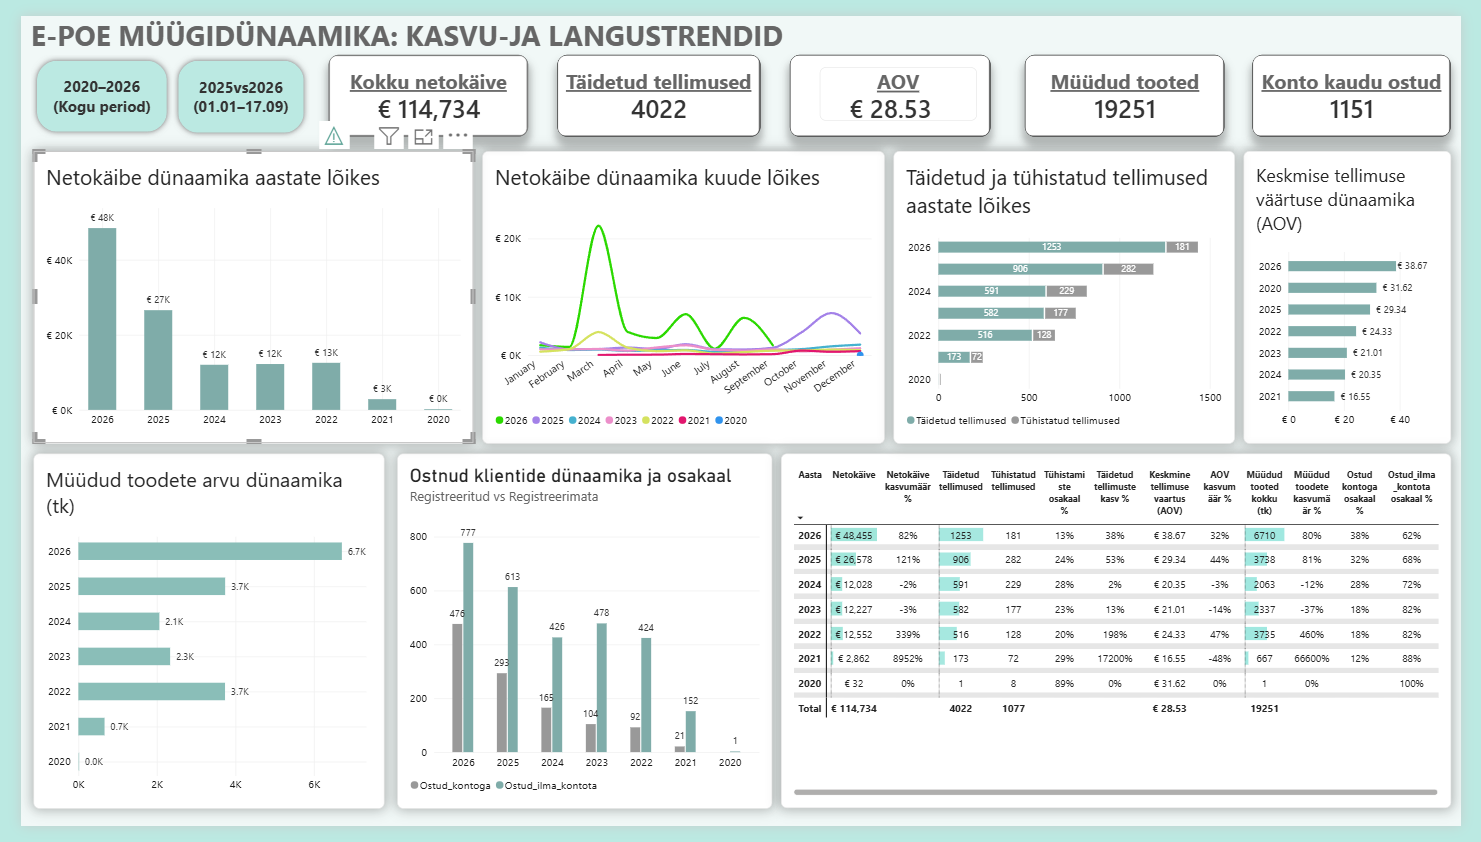

The dashboard page shown, as its layout file describes it:
{"tool":"powerbi","page":{"name":"E-POE MÜÜGIDÜNAAMIKA","canvas":[1920,1080],"ordinal":0},"visuals":[{"type":"cardVisual","fields":{"Data":["Arvutused.Täidetud tellimused"]},"box":[715.4,52.3,270.9,109.3],"z":2000},{"type":"cardVisual","fields":{"Data":["Arvutused.Muudud tooted kokku"]},"box":[1337.6,50.9,266.1,109.3],"z":5000},{"type":"cardVisual","fields":{"Data":["Arvutused.Ostud_kontoga"]},"box":[1641.2,52.3,264.6,109.3],"z":7000},{"type":"clusteredColumnChart","title":"Netokäibe dünaamika aastate lõikes","fields":{"Category":["public dim_date.year"],"Y":["Arvutused.Netokäive"]},"box":[16.7,180,586.7,390],"z":9000},{"type":"lineChart","title":"Netokäibe dünaamika kuude lõikes","fields":{"Category":["public dim_date.month_name"],"Series":["public dim_date.year"],"Y":["Arvutused.Netokäive"]},"box":[615,180,536.7,390],"z":10000},{"type":"clusteredBarChart","title":"Keskmise tellimuse väärtuse dünaamika (AOV)","fields":{"Category":["public dim_date.year"],"Y":["Arvutused.Keskmine tellimuse vaartus"]},"box":[1630,180,276.7,390],"z":11000},{"type":"clusteredBarChart","title":"Müüdud toodete arvu dünaamika (tk)","fields":{"Category":["public dim_date.year"],"Y":["Arvutused.Müüdud tooted kokku (tk)"]},"box":[17.5,584.1,468.3,473.3],"z":12000},{"type":"clusteredColumnChart","title":"Ostnud klientide dünaamika ja osakaal","fields":{"Category":["public dim_date.year"],"Y":["Arvutused.Ostud_kontoga","Arvutused.Ostud_ilma_kontota"]},"box":[501.6,584.1,500,473.3],"z":13000},{"type":"pivotTable","fields":{"Rows":["public dim_date.year"],"Values":["Arvutused.Netokäive","Arvutused.Netokäive kasvumäär %","Arvutused.Täidetud tellimused","Arvutused.Tühistatud tellimused","Arvutused.Tühistamiste osakaal %","Arvutused.Täidetud tellimuste kasv %","Arvutused.Keskmine tellimuse vaartus (AOV)","Arvutused.AOV kasvumäär %","Arvutused.Müüdud tooted kokku (tk)","Arvutused.Müüdud toodete kasvumäär %","Arvutused.Ostud_kontoga osakaal %","Arvutused.Ostud_ilma_kontota osakaal %"]},"box":[1012.7,584.1,893.7,473],"z":14000},{"type":"cardVisual","fields":{"Data":["Arvutused.Netokäive"]},"box":[410,52.3,266.1,109.3],"z":15000},{"type":"textbox","box":[410,68.3,266.1,58.2],"z":16000},{"type":"cardVisual","fields":{"Data":["Arvutused.Keskmine tellimuse vaartus"]},"box":[1025,50.9,267.7,109.3],"z":17000},{"type":"textbox","box":[1065.7,68,209.3,71.5],"z":18000},{"type":"actionButton","box":[13.1,52.3,189,110.5],"z":19000},{"type":"textbox","box":[1353.6,68.3,237,37.8],"z":19250},{"type":"textbox","box":[1641.2,68.1,264.6,50.7],"z":19375},{"type":"textbox","box":[715.4,68.3,270.4,52.3],"z":19437},{"type":"textbox","box":[385.7,84.1,12.7,42.9],"z":19468},{"type":"textbox","box":[916,80,70,118],"z":19500},{"type":"textbox","box":[13.3,0,1236.7,68.3],"z":19750},{"type":"actionButton","box":[202.1,52.3,183.2,112],"z":20000},{"type":"barChart","title":"Täidetud ja tühistatud tellimused aastate lõikes","fields":{"Category":["public dim_date.Year"],"Y":["Arvutused.Täidetud tellimused","Arvutused.Tühistatud tellimused"]},"box":[1163.3,180,455,390],"z":21000}]}

Visuals, with their boxes in screenshot pixels (x1, y1, x2, y2), scaled from the page's 1920x1080 canvas onto the 1481x842 screenshot:
cardVisual - Arvutused.Täidetud tellimused: detection(552, 41, 761, 126)
cardVisual - Arvutused.Muudud tooted kokku: detection(1032, 40, 1237, 125)
cardVisual - Arvutused.Ostud_kontoga: detection(1266, 41, 1470, 126)
"Netokäibe dünaamika aastate lõikes" clusteredColumnChart: detection(13, 140, 465, 444)
"Netokäibe dünaamika kuude lõikes" lineChart: detection(474, 140, 888, 444)
"Keskmise tellimuse väärtuse dünaamika (AOV)" clusteredBarChart: detection(1257, 140, 1471, 444)
"Müüdud toodete arvu dünaamika (tk)" clusteredBarChart: detection(13, 455, 375, 824)
"Ostnud klientide dünaamika ja osakaal" clusteredColumnChart: detection(387, 455, 773, 824)
pivotTable - public dim_date.year x Arvutused.Netokäive: detection(781, 455, 1471, 824)
cardVisual - Arvutused.Netokäive: detection(316, 41, 522, 126)
textbox: detection(316, 53, 522, 99)
cardVisual - Arvutused.Keskmine tellimuse vaartus: detection(791, 40, 997, 125)
textbox: detection(822, 53, 983, 109)
actionButton: detection(10, 41, 156, 127)
textbox: detection(1044, 53, 1227, 83)
textbox: detection(1266, 53, 1470, 93)
textbox: detection(552, 53, 760, 94)
textbox: detection(298, 66, 307, 99)
textbox: detection(707, 62, 761, 154)
textbox: detection(10, 0, 964, 53)
actionButton: detection(156, 41, 297, 128)
"Täidetud ja tühistatud tellimused aastate lõikes" barChart: detection(897, 140, 1248, 444)
